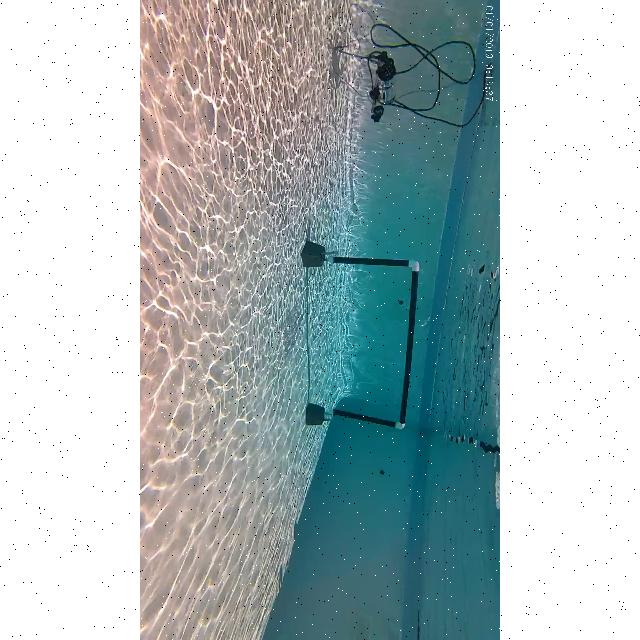prequal gate: (326, 257, 420, 429)
prequal gate leg l: (326, 247, 426, 275)
prequal gate leg r: (323, 406, 412, 434)
